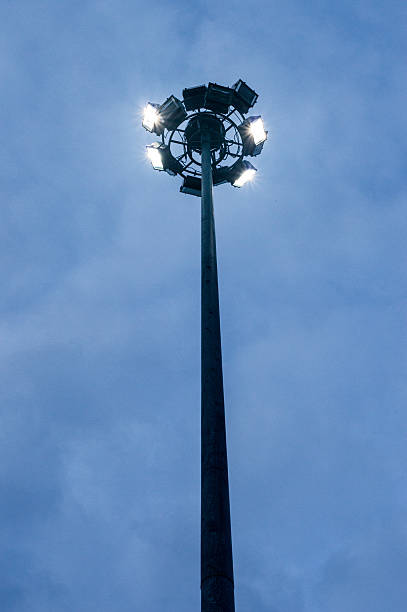light_pole: (195, 187, 238, 610)
